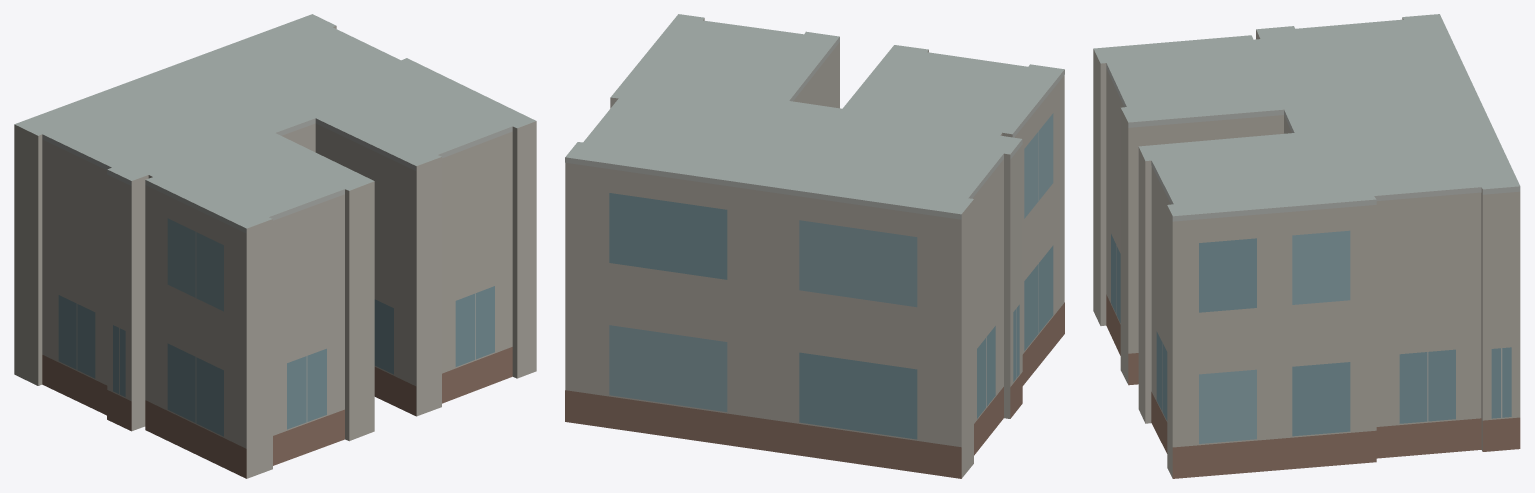
Rendered from survey-upis-32853186.glb.
3 renders of one model, left to right at view 1: azimuth 30°, elevation 25°; view 2: azimuth 150°, elevation 25°; view 3: azimuth 270°, elevation 25°, orthographic. The views are drawn at different scales.
Visible parts, largest first — view 1: survey-upis-32853186.tmp; view 2: survey-upis-32853186.tmp; view 3: survey-upis-32853186.tmp.
Part boxes in pixels (<box>): survey-upis-32853186.tmp: <box>14,14,536,478</box>; survey-upis-32853186.tmp: <box>565,14,1064,478</box>; survey-upis-32853186.tmp: <box>1093,14,1520,478</box>.
Size of the model in its own units: 19.81 by 11.99 by 17.68.
